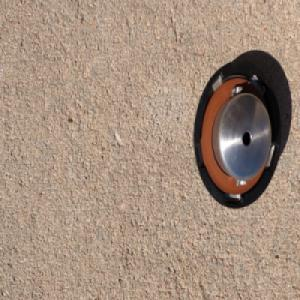FuelCap: (193, 58, 282, 211)
